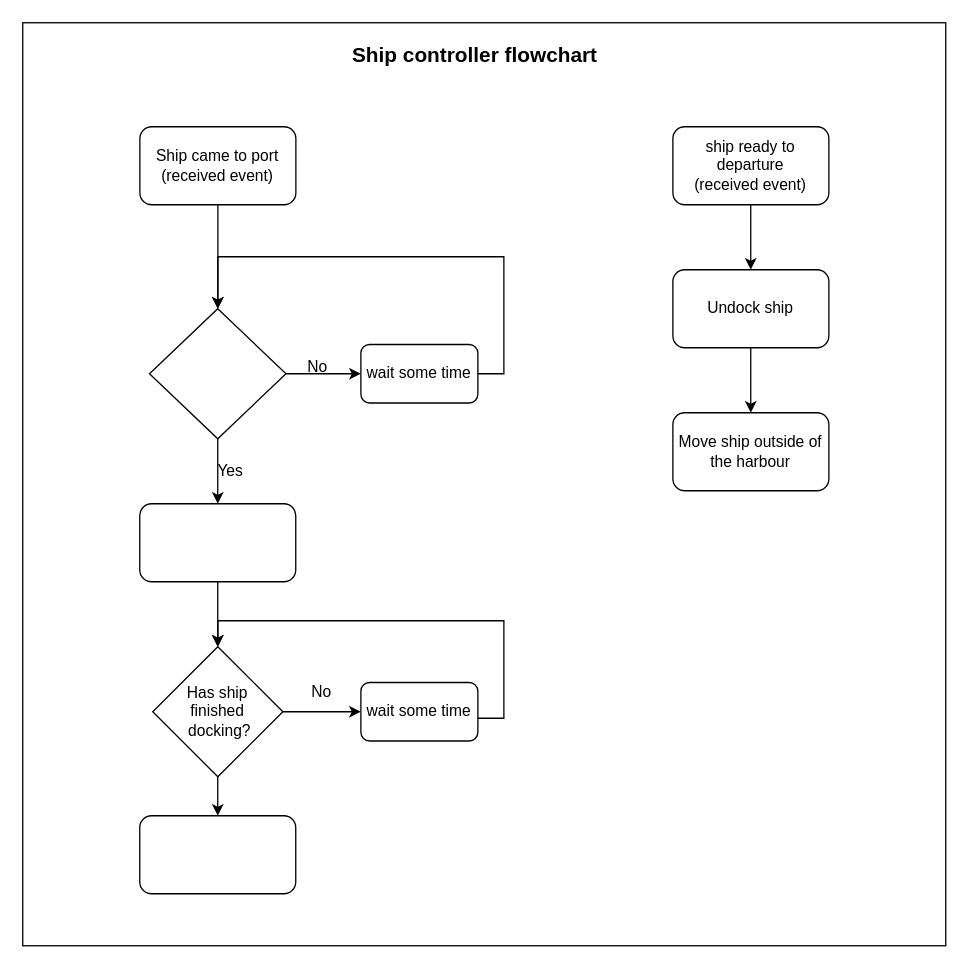
Image size: 968x968. Some labels were removed from this diagram. The shapes that lost their labels are listed below. From the top down, each one's box as (x1, y1, x2, y2) in pixels, then its label:
(148, 307, 286, 439): Are there empty docks?
(138, 502, 296, 582): Send ship to empty dock
(138, 814, 296, 894): Start unloading ship (generate event)
